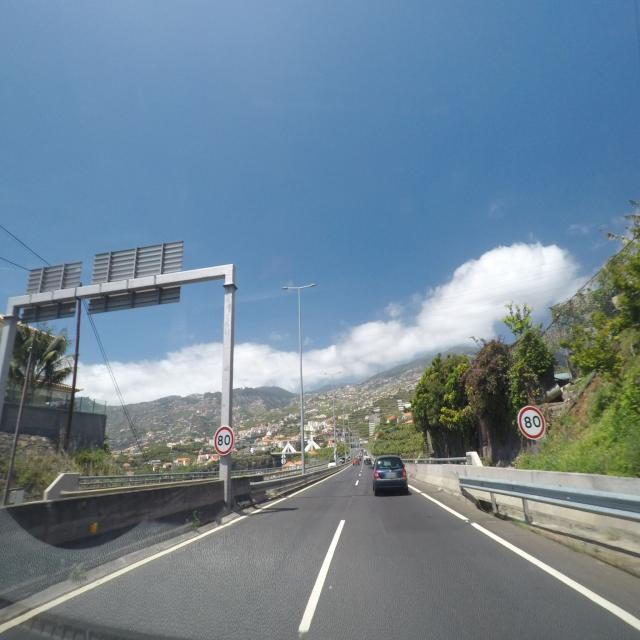car: (372, 454, 408, 496)
